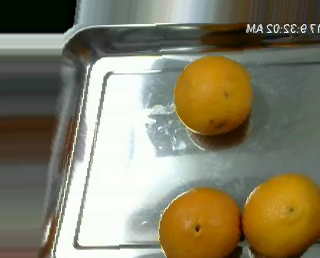Orange: (242, 170, 320, 254), (174, 56, 253, 137), (158, 185, 240, 258)
